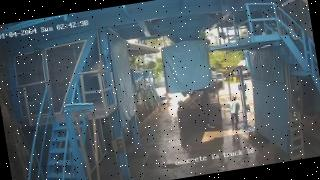cement_mixer_truck: (177, 67, 224, 131)
